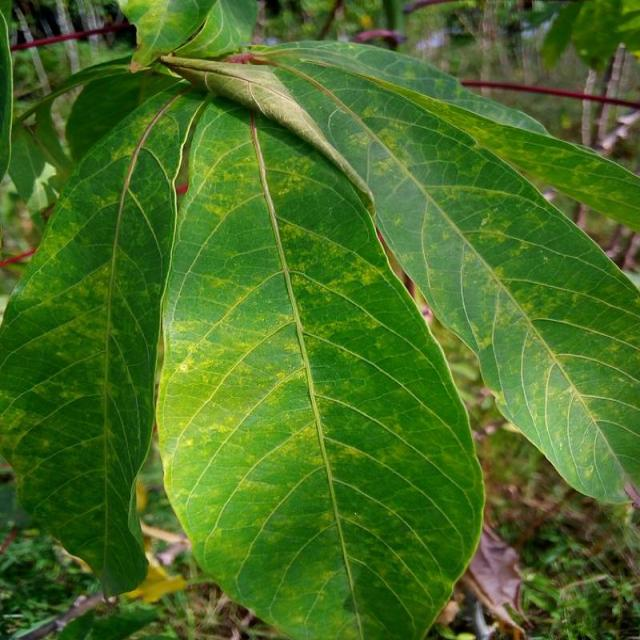cassava leaf: (1, 34, 638, 638), (153, 86, 486, 638), (0, 83, 194, 602)
